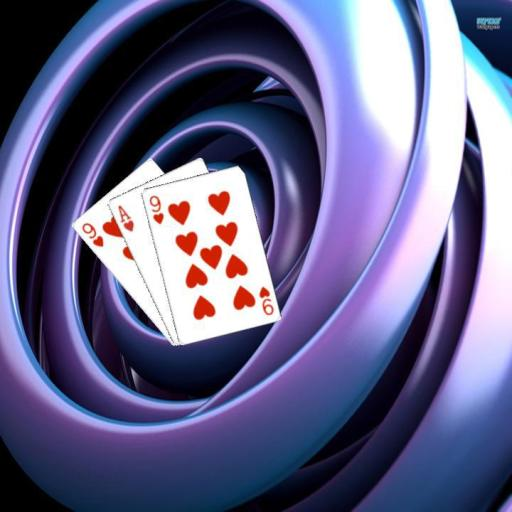9H: (78, 219, 105, 249), (255, 283, 275, 316), (146, 192, 165, 225)
AH: (115, 202, 135, 233)
